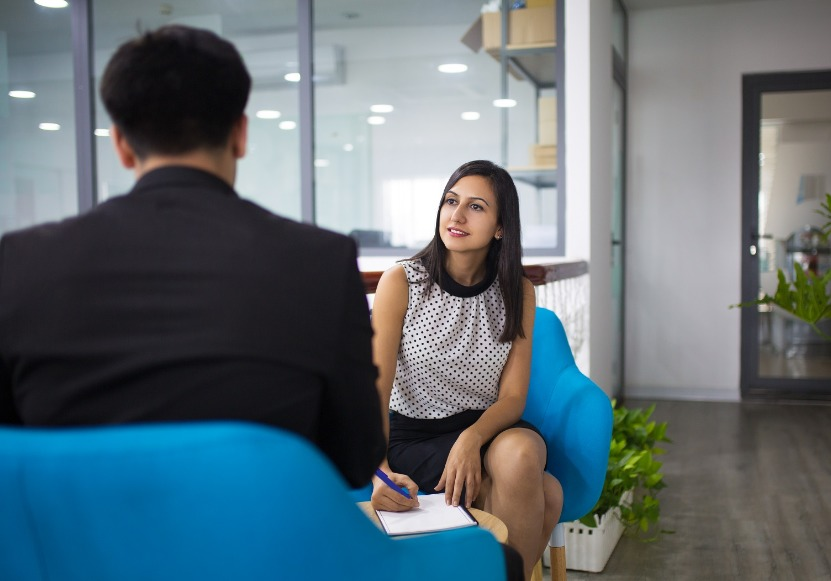without_mask: (446, 187, 491, 255)
